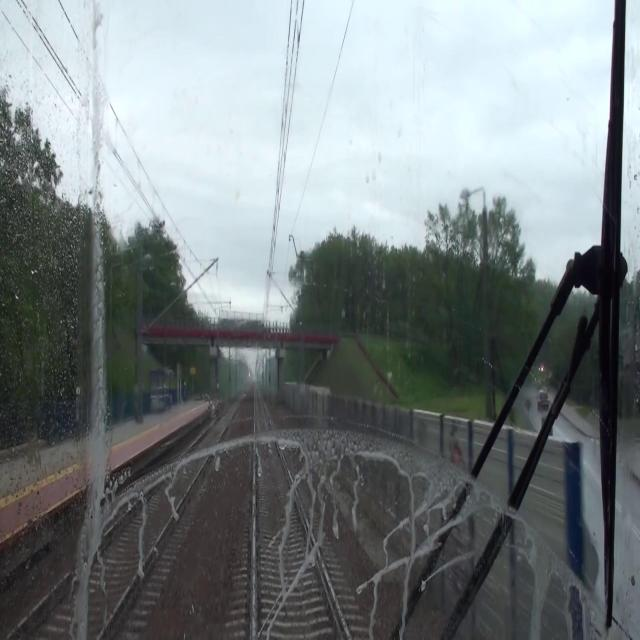rail-track: (12, 395, 240, 639), (257, 393, 346, 639)
